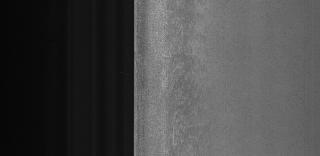silk spot: (158, 13, 212, 145)
